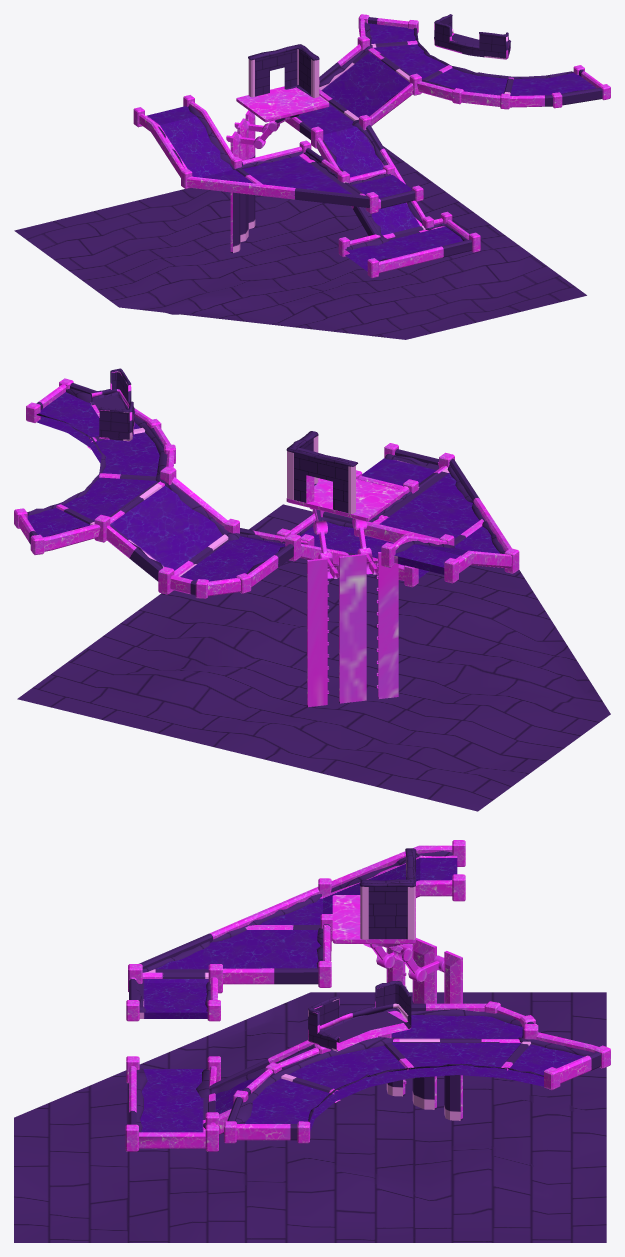
The model's file is Winter.fbx.
3 renders of one model, top to bottom at view 1: azimuth 30°, elevation 25°; view 2: azimuth 150°, elevation 25°; view 3: azimuth 270°, elevation 25°, orthographic. The views are drawn at different scales.
Visible parts, largest first — view 1: Snow, Winter_floor, Winter_moving_platform, Winter_moving_platform_base, Winter_balcony; view 2: Snow, Winter_floor, Winter_moving_platform_base, Winter_moving_platform, Winter_balcony; view 3: Snow, Winter_floor, Winter_moving_platform, Winter_moving_platform_base, Winter_balcony.
Part boxes in pixels (left/top/right/bottom): Snow: left=14, top=146, right=586, bottom=339; Winter_floor: left=133, top=14, right=610, bottom=278; Winter_moving_platform: left=226, top=44, right=329, bottom=148; Winter_moving_platform_base: left=230, top=110, right=255, bottom=253; Winter_balcony: left=434, top=14, right=510, bottom=59; Snow: left=17, top=504, right=610, bottom=811; Winter_floor: left=14, top=378, right=519, bottom=598; Winter_moving_platform_base: left=307, top=552, right=398, bottom=707; Winter_moving_platform: left=286, top=431, right=404, bottom=584; Winter_balcony: left=90, top=368, right=134, bottom=441; Snow: left=14, top=992, right=606, bottom=1242; Winter_floor: left=125, top=840, right=610, bottom=1151; Winter_moving_platform: left=332, top=848, right=444, bottom=982; Winter_moving_platform_base: left=386, top=938, right=462, bottom=1120; Winter_balcony: left=308, top=981, right=411, bottom=1051.
Size of the model in its own units: 1985 by 786 by 1574.
